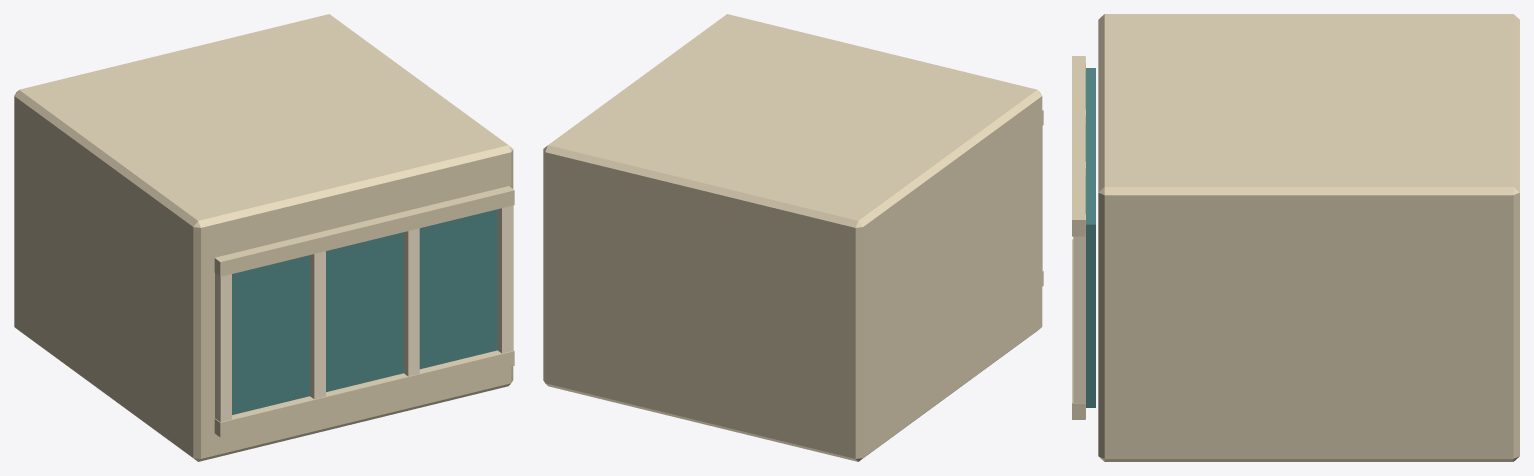
File: hsc3_fab_skybridge.glb
The picture shows the model from 3 angles, left to right: view 1: azimuth 30°, elevation 25°; view 2: azimuth 150°, elevation 25°; view 3: azimuth 270°, elevation 25°; orthographic projection. The views are drawn at different scales.
Parts seen in each view (by area): view 1: hsc3_fab_skybridge__hsc3-cream-enamel, hsc3_fab_skybridge__hsc3-deep-teal, hsc3_fab_skybridge__hsc3-pale-trim; view 2: hsc3_fab_skybridge__hsc3-cream-enamel; view 3: hsc3_fab_skybridge__hsc3-cream-enamel, hsc3_fab_skybridge__hsc3-deep-teal, hsc3_fab_skybridge__hsc3-pale-trim.
Part boxes in pixels (x1,y1,x2,y2): hsc3_fab_skybridge__hsc3-cream-enamel: [14, 14, 514, 461]; hsc3_fab_skybridge__hsc3-deep-teal: [232, 209, 497, 414]; hsc3_fab_skybridge__hsc3-pale-trim: [215, 205, 513, 422]; hsc3_fab_skybridge__hsc3-cream-enamel: [543, 14, 1043, 461]; hsc3_fab_skybridge__hsc3-cream-enamel: [1072, 14, 1519, 461]; hsc3_fab_skybridge__hsc3-deep-teal: [1085, 68, 1095, 407]; hsc3_fab_skybridge__hsc3-pale-trim: [1073, 57, 1085, 418].
Size of the model in its own units: 5 by 3.6 by 5.31.
